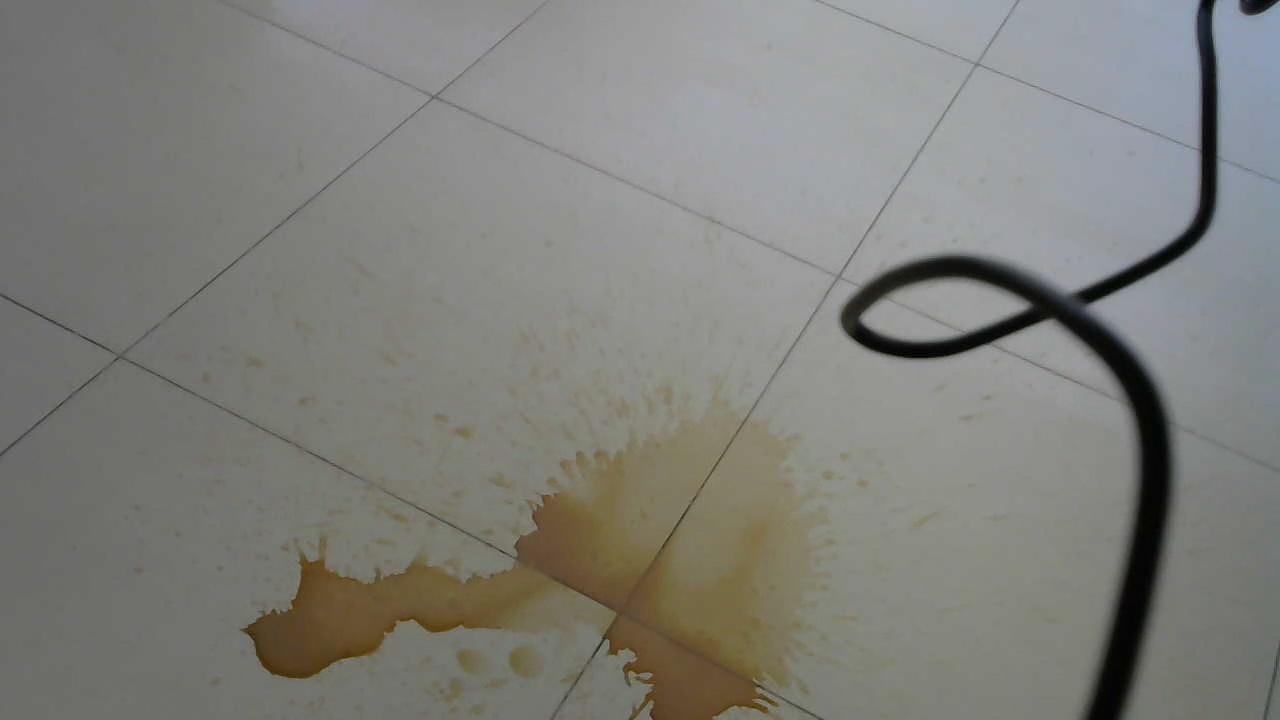dirty_floor: (218, 357, 874, 720)
